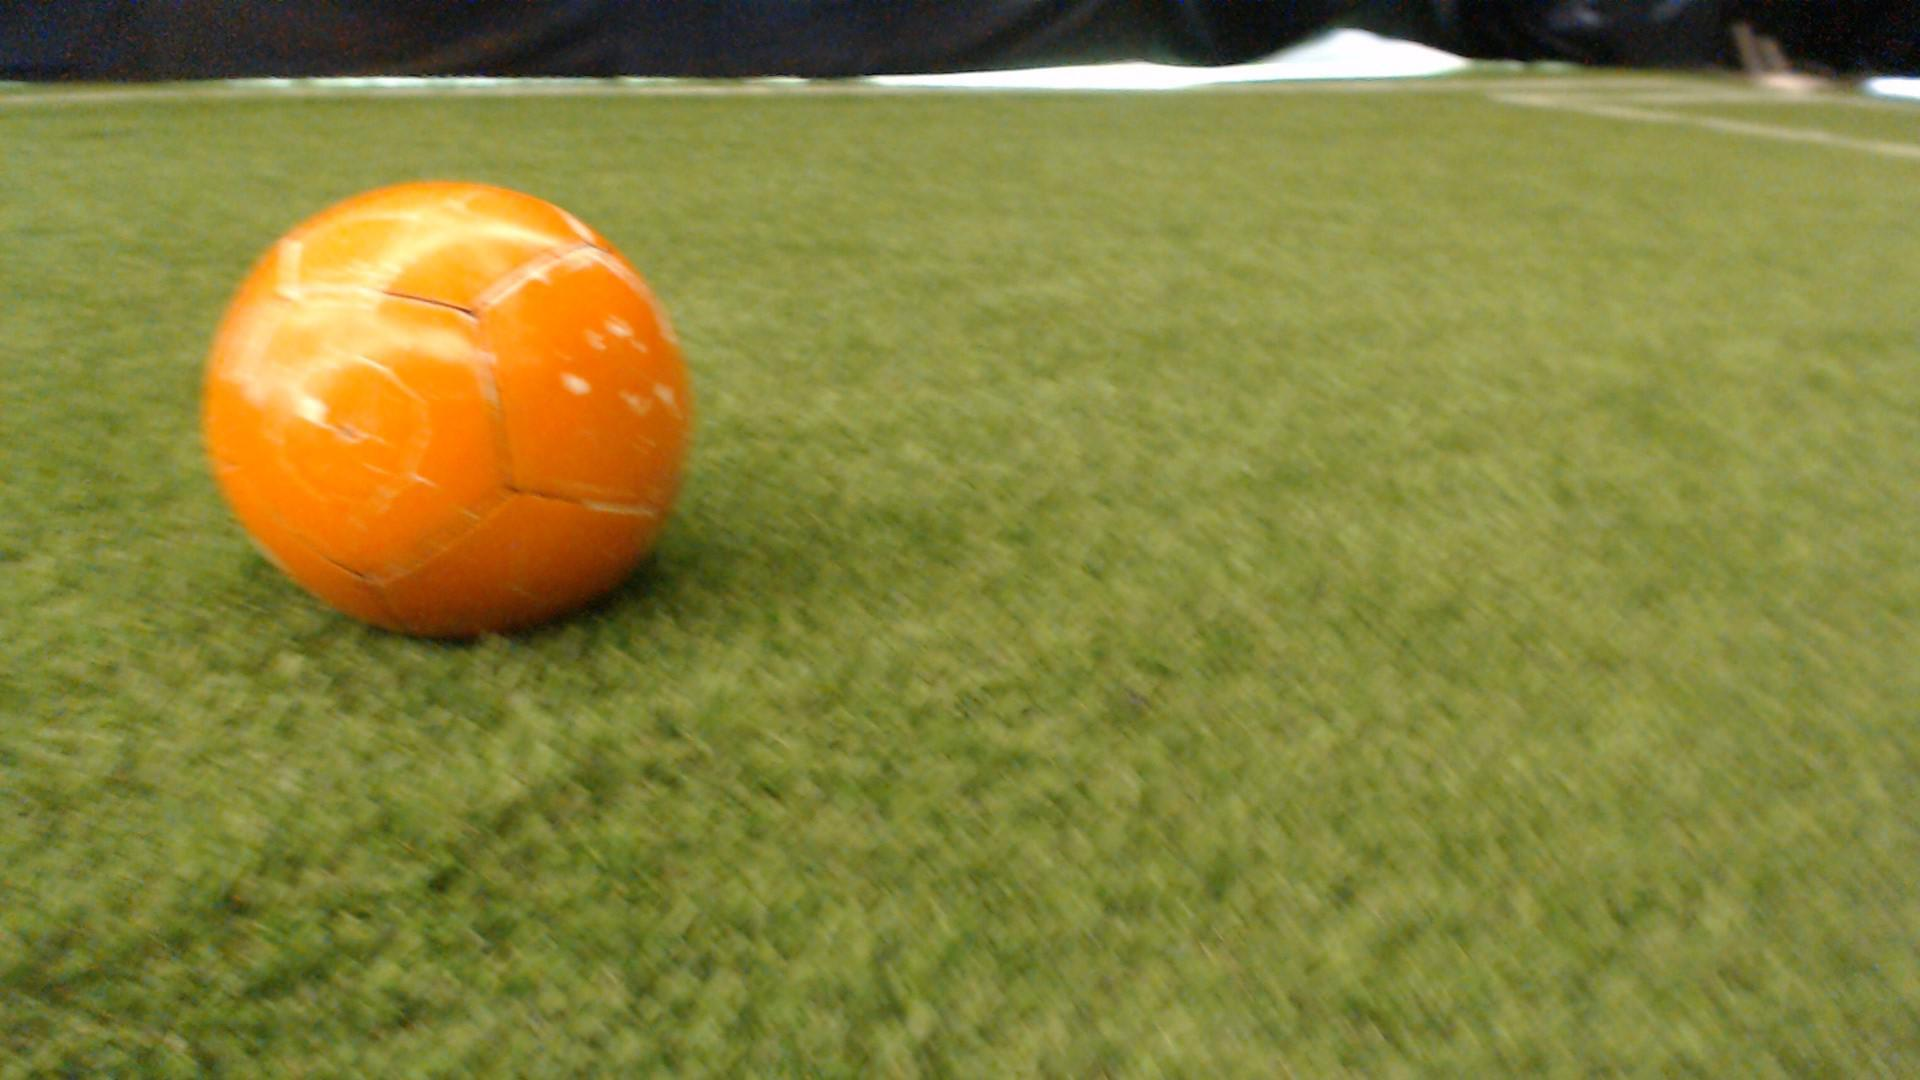bola: (170, 133, 742, 683)
